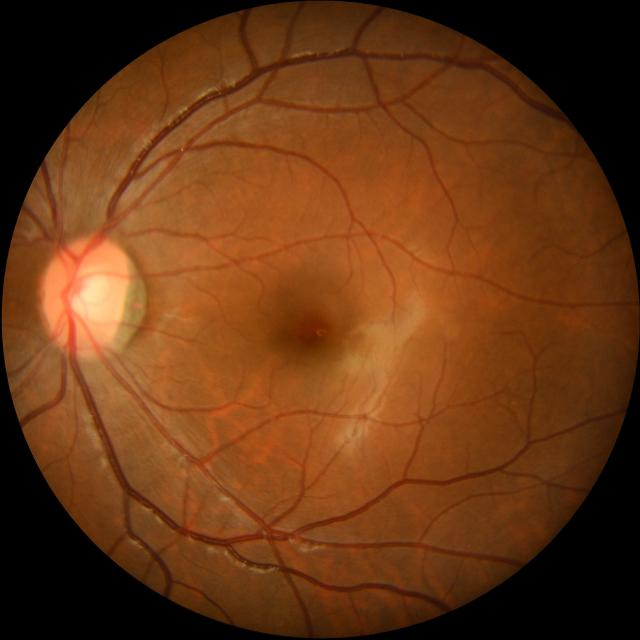OC: (64, 262, 113, 324)
OD: (41, 234, 130, 351)
